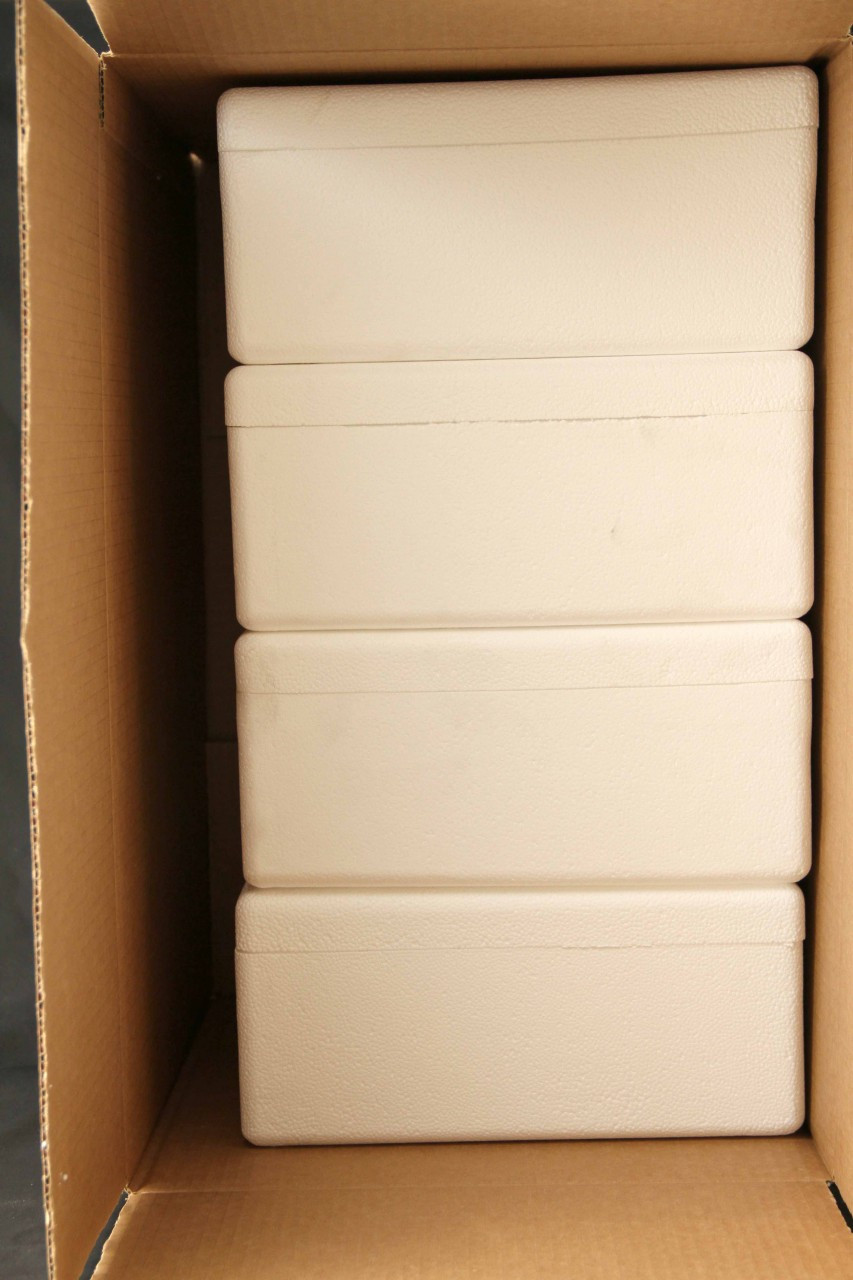Boxes: (219, 72, 814, 1144)
